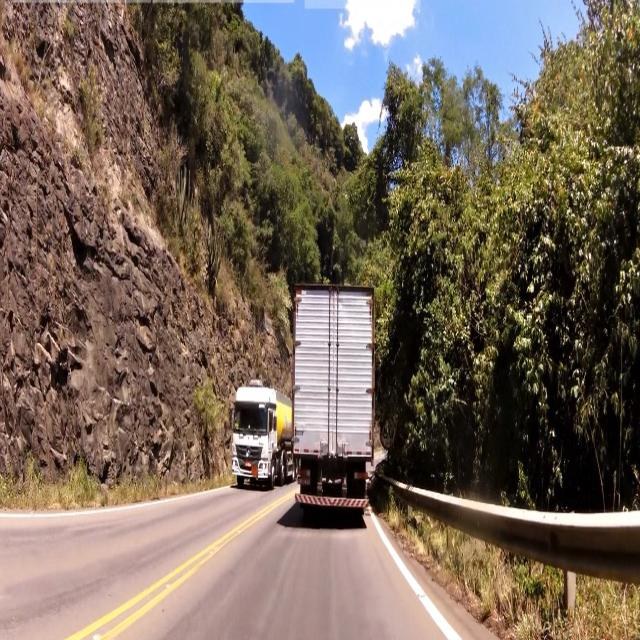R-19: (379, 414, 398, 446)
